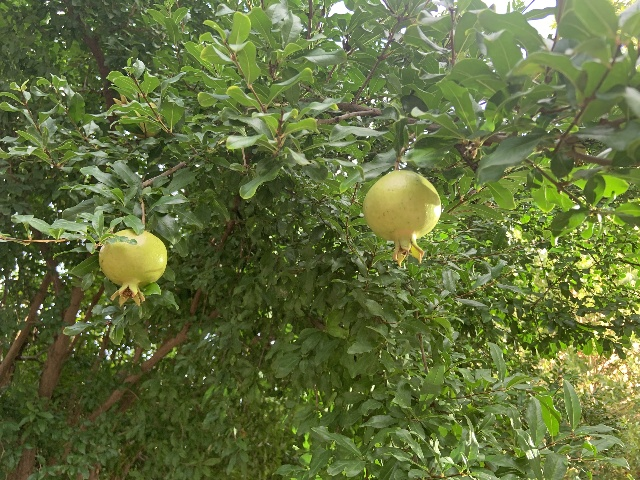mid-growth: (362, 169, 441, 266), (99, 228, 168, 306)
